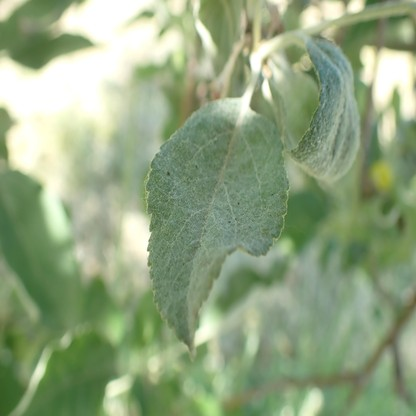powdery_mildew: (145, 97, 288, 364), (291, 37, 361, 183)
